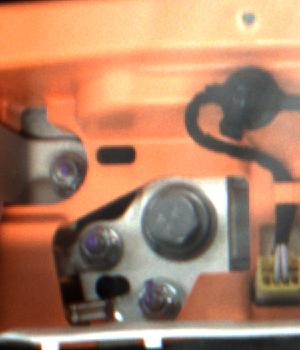nut_b: (144, 186, 221, 261)
